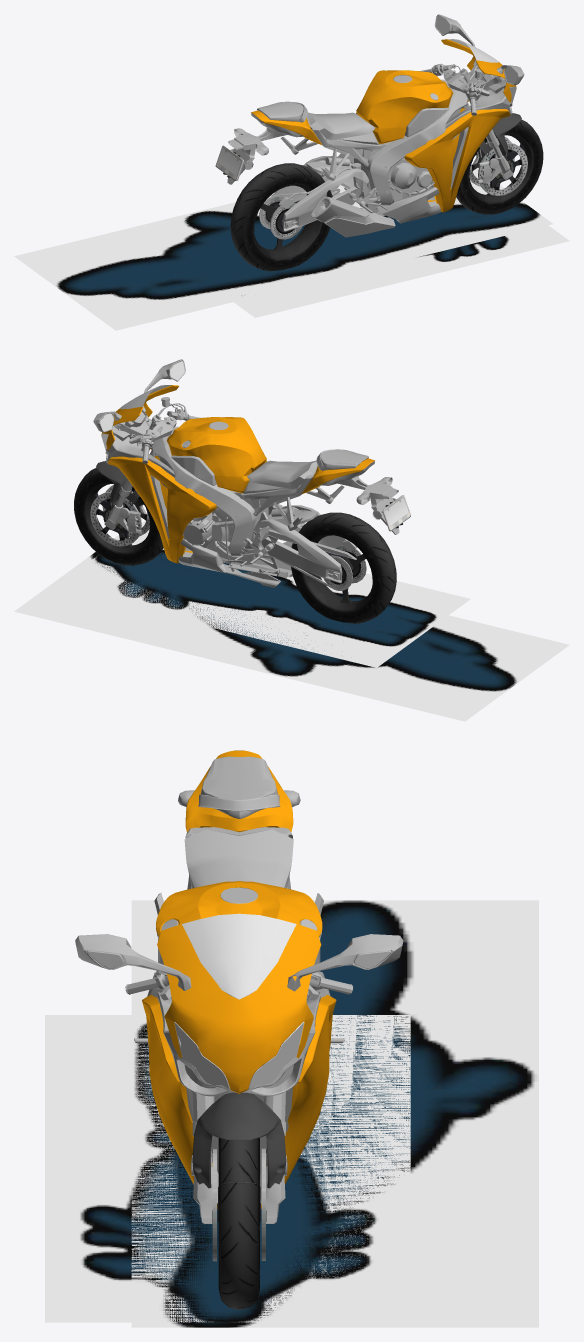
Rendered from bike7.fbx.
The picture shows the model from 3 angles, top to bottom: view 1: azimuth 30°, elevation 25°; view 2: azimuth 150°, elevation 25°; view 3: azimuth 270°, elevation 25°; orthographic projection. The views are drawn at different scales.
Visible parts, largest first — view 1: Shadow_SunSet, Chrome, Body, Shadow_DayLight, Tyre_B, Rim_F, SteeringChrome, Rim_B, Tyre_F, SteeringBody, Plate; view 2: Shadow_SunSet, Chrome, Shadow_DayLight, Body, Tyre_B, Rim_F, SteeringChrome, Tyre_F, Rim_B, SteeringBody, Plate; view 3: Shadow_SunSet, Shadow_DayLight, Body, Chrome, Glass, Tyre_F, SteeringBody, SteeringChrome, Rim_F.
Part boxes in pixels (box(x1,y1,x2,y2)): Shadow_SunSet: box(14, 164, 552, 330); Chrome: box(227, 14, 524, 237); Body: box(251, 39, 516, 212); Shadow_DayLight: box(233, 186, 569, 317); Tyre_B: box(230, 163, 332, 271); Rim_F: box(468, 133, 533, 203); SteeringChrome: box(418, 63, 513, 183); Rim_B: box(253, 184, 322, 259); Tyre_F: box(456, 119, 543, 214); SteeringBody: box(479, 113, 521, 160); Plate: box(215, 145, 243, 180); Shadow_SunSet: box(14, 535, 569, 721); Chrome: box(93, 359, 399, 590); Shadow_DayLight: box(56, 520, 470, 667); Body: box(101, 385, 374, 563); Tyre_B: box(291, 512, 396, 623); Rim_F: box(84, 482, 150, 553); SteeringChrome: box(104, 397, 202, 533); Tyre_F: box(74, 467, 163, 565); Rim_B: box(301, 534, 373, 611); SteeringBody: box(96, 461, 139, 510); Plate: box(382, 495, 410, 531); Shadow_SunSet: box(131, 900, 538, 1327); Shadow_DayLight: box(45, 1015, 410, 1322); Body: box(142, 750, 336, 1208); Chrome: box(75, 750, 403, 1173); Glass: box(174, 913, 304, 1089); Tyre_F: box(218, 1138, 259, 1309); SteeringBody: box(192, 1092, 286, 1188); SteeringChrome: box(125, 970, 352, 1223); Rim_F: box(212, 1148, 266, 1261).
Bounding box in the file's own units: 321 × 123 × 152.
